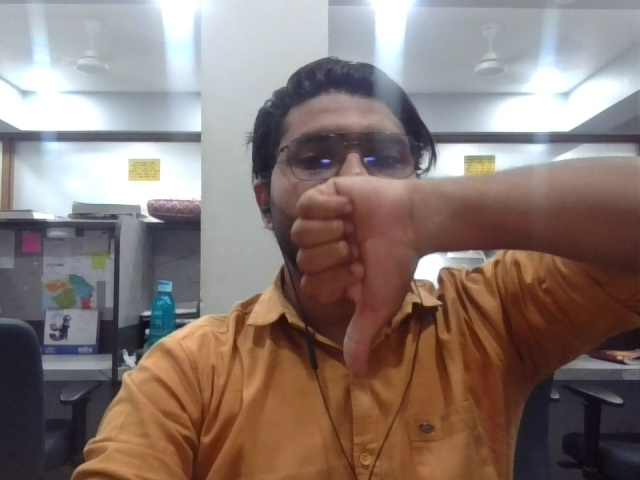ThumbsDown: (290, 174, 419, 378)
